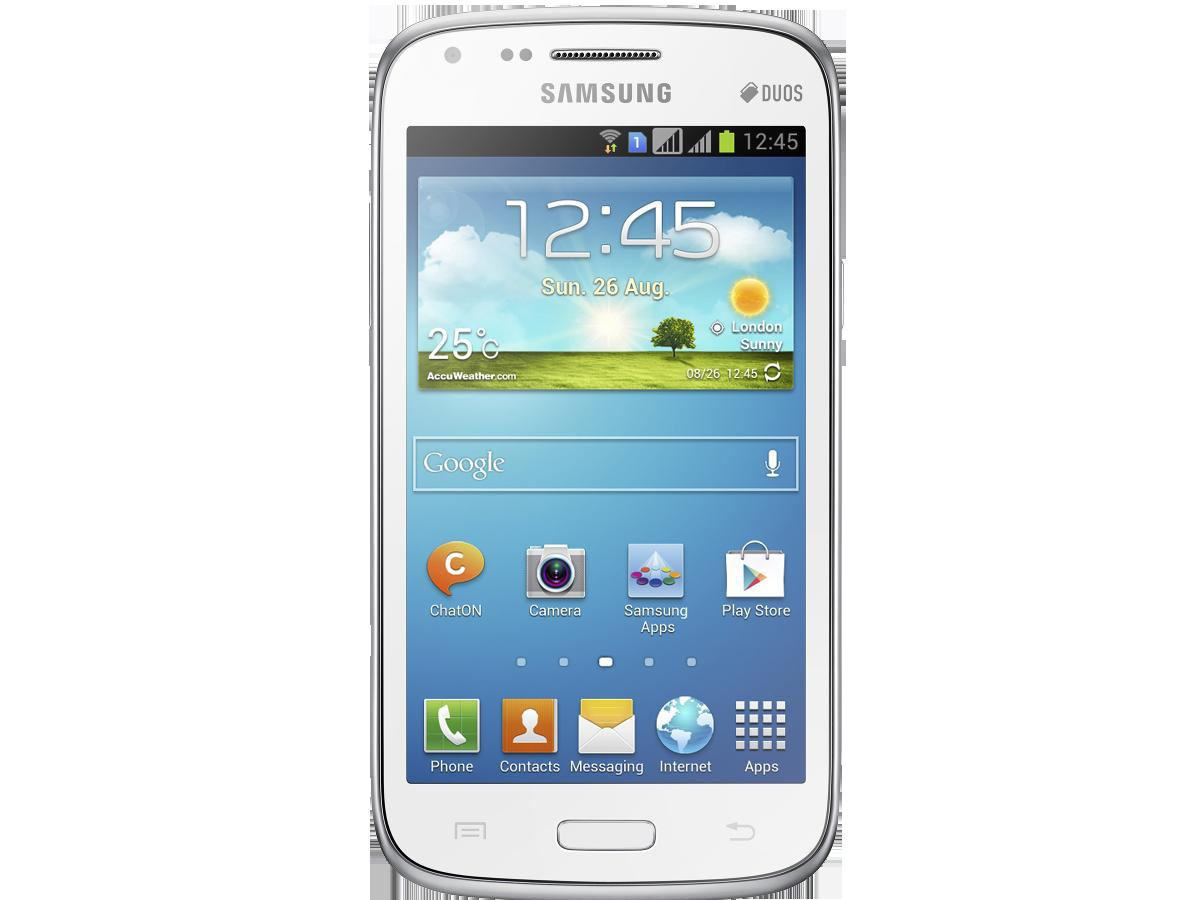Smart Phone: (367, 0, 846, 900)
